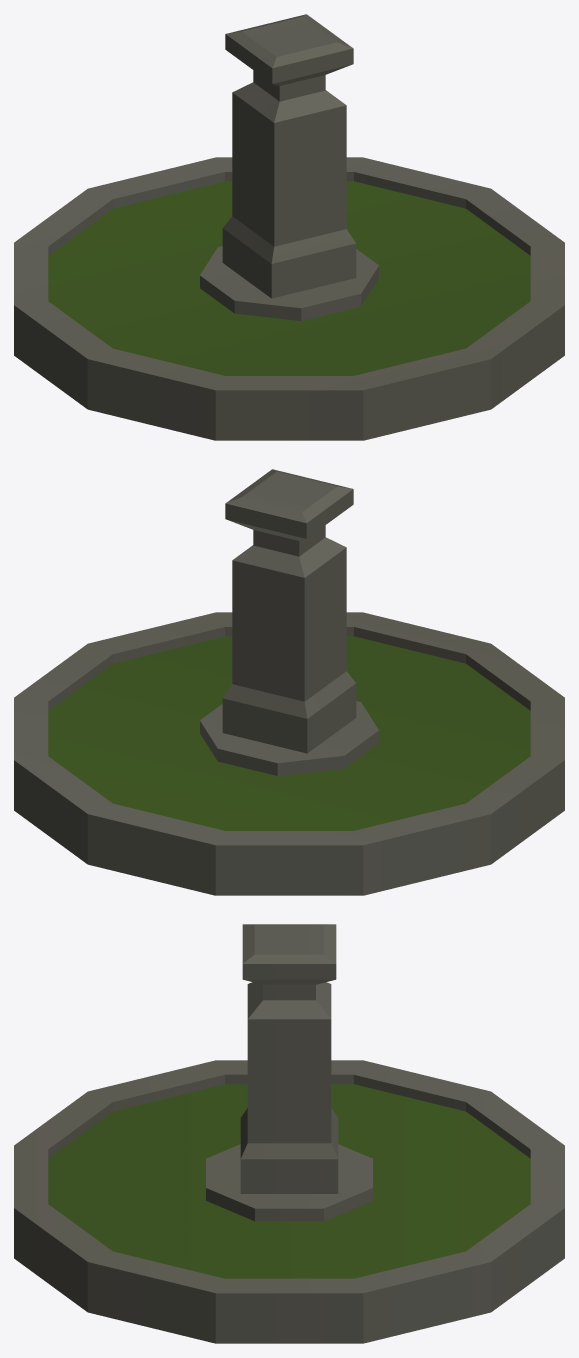
Rendered from Fountain_02.fbx.
3 renders of one model, top to bottom at view 1: azimuth 30°, elevation 25°; view 2: azimuth 150°, elevation 25°; view 3: azimuth 270°, elevation 25°, orthographic.
Parts seen in each view (by area): view 1: Fountain_02; view 2: Fountain_02; view 3: Fountain_02.
Part boxes in pixels (bbox=[...]): Fountain_02: bbox=[14, 14, 564, 440]; Fountain_02: bbox=[14, 469, 564, 895]; Fountain_02: bbox=[14, 924, 564, 1343].
Size of the model in its own units: 4.2 by 2.42 by 4.2.
